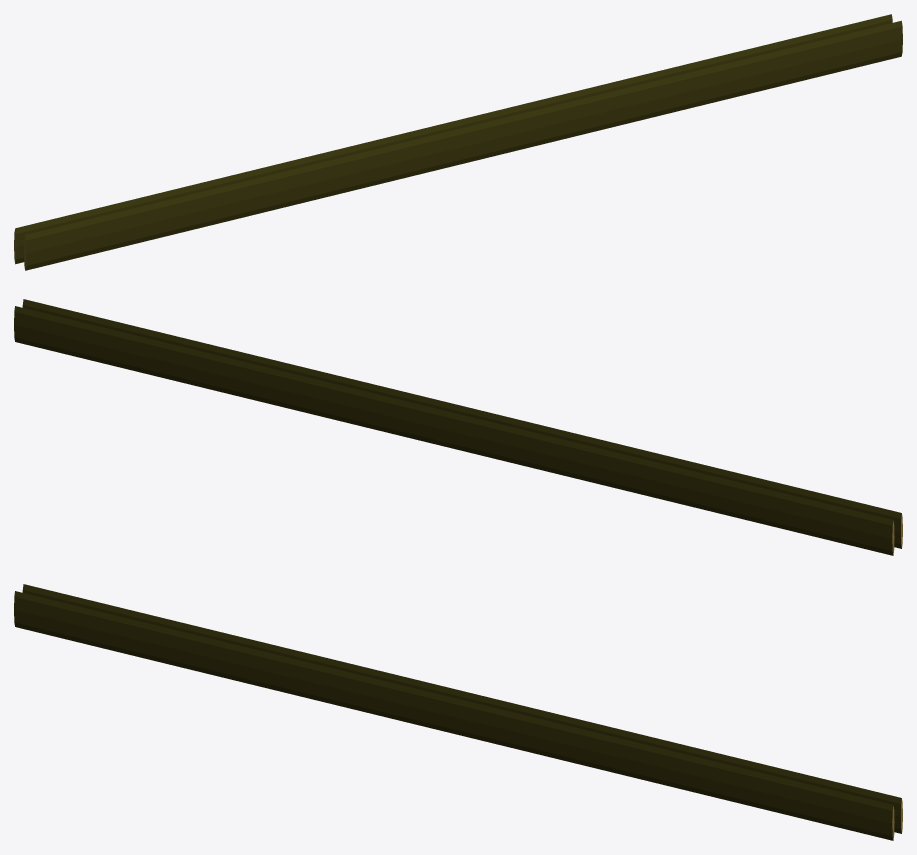
3 renders of one model, top to bottom at view 1: azimuth 30°, elevation 25°; view 2: azimuth 150°, elevation 25°; view 3: azimuth 330°, elevation 25°, orthographic.
Visible parts, largest first — view 1: Cylinder.009; view 2: Cylinder.009; view 3: Cylinder.009.
Boxes of the visible parts, x1,y1,x2,y2 form: Cylinder.009: (14, 14, 902, 270); Cylinder.009: (14, 299, 902, 555); Cylinder.009: (14, 584, 902, 840).
Bounding box in the file's own units: 135 × 5.3 × 3.16.
